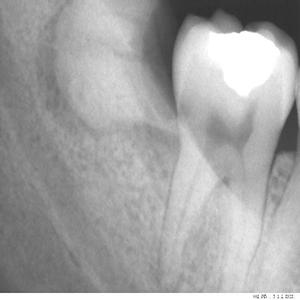tooth: (157, 7, 299, 279)
